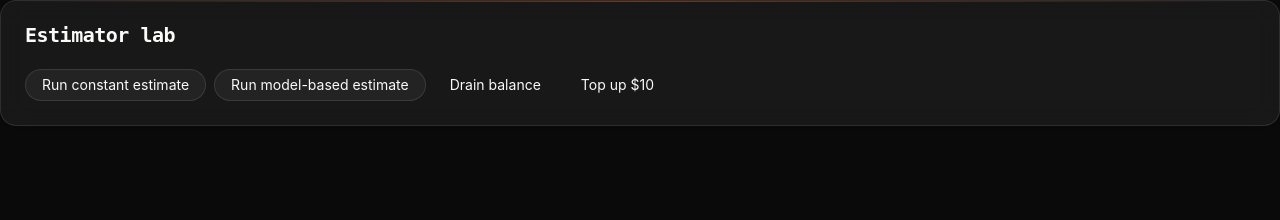
it: LabRunner › renders the error envelope when the top-up is rejected
The width and height of the screenshot is (1280, 220).
Step 1. Click the button "Top up $10" → (617, 85), box 565,69 -> 670,101
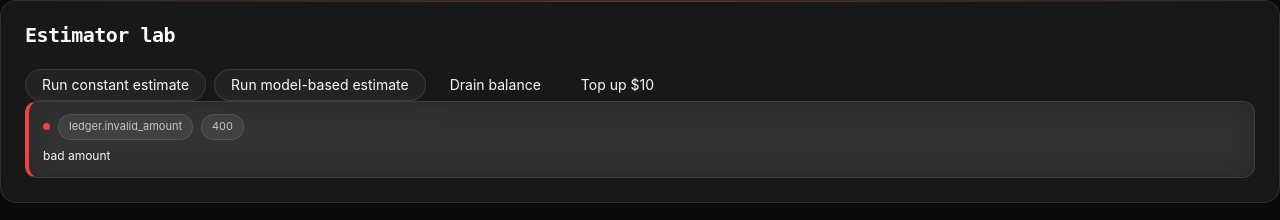
expect the message shows "bad amount": met, box 43,148 -> 110,163
